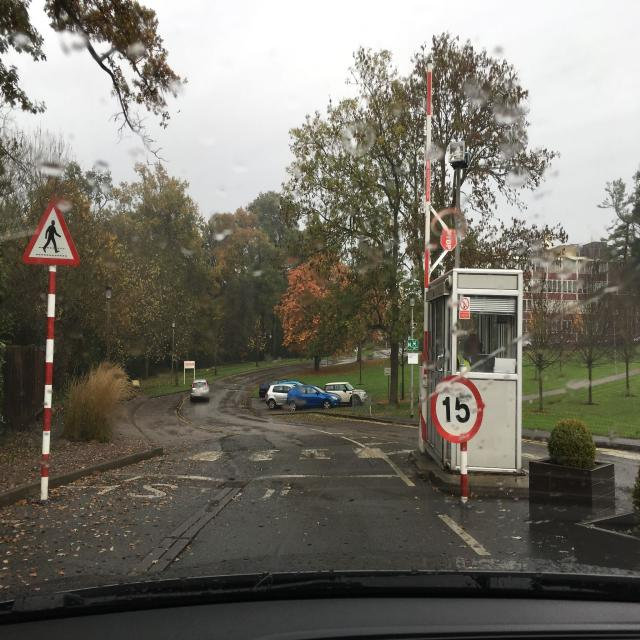car: (283, 384, 340, 410), (322, 382, 366, 406), (266, 382, 302, 409), (189, 379, 210, 403), (258, 380, 280, 400)
